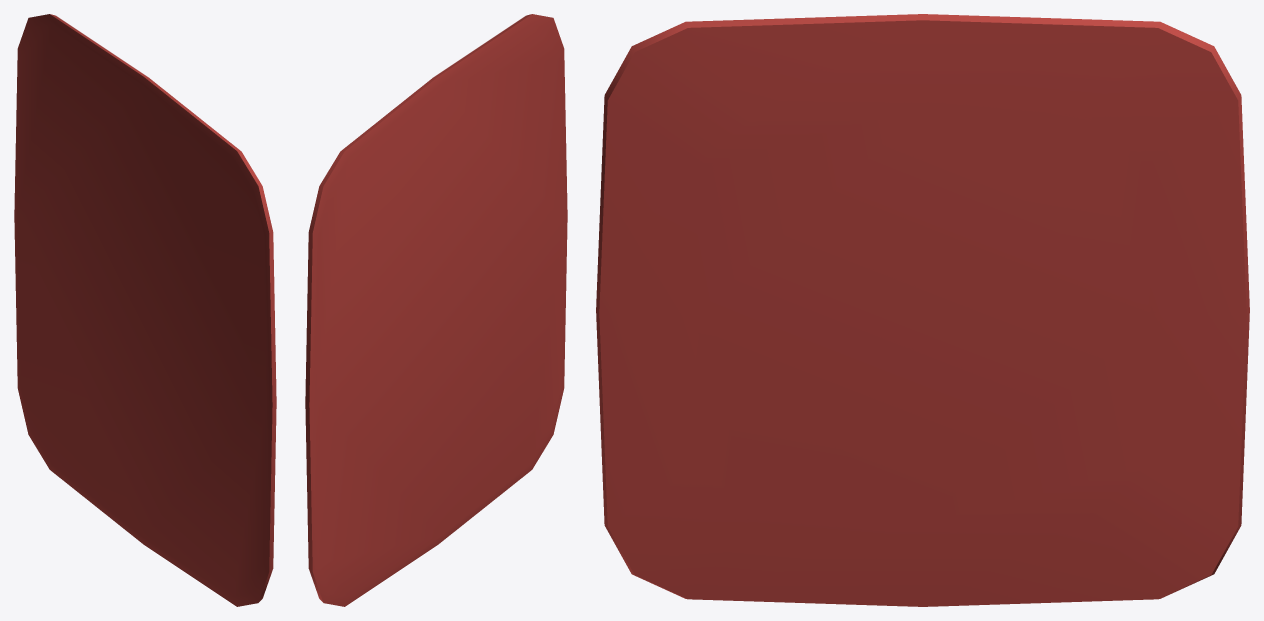
File: rect_lod1.glb
The picture shows the model from 3 angles, left to right: view 1: azimuth 30°, elevation 25°; view 2: azimuth 150°, elevation 25°; view 3: azimuth 270°, elevation 25°; orthographic projection. The views are drawn at different scales.
Parts seen in each view (by area): view 1: rect_lod1; view 2: rect_lod1; view 3: rect_lod1.
Boxes of the visible parts, x1,y1,x2,y2 form: rect_lod1: (14, 14, 276, 606); rect_lod1: (305, 14, 567, 606); rect_lod1: (596, 14, 1249, 606).
Size of the model in its own units: 0.024 by 1 by 1.
